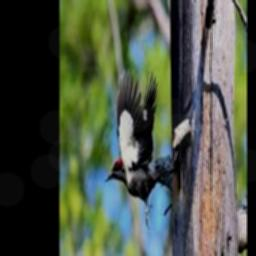Woodpecker: (104, 69, 176, 229)
